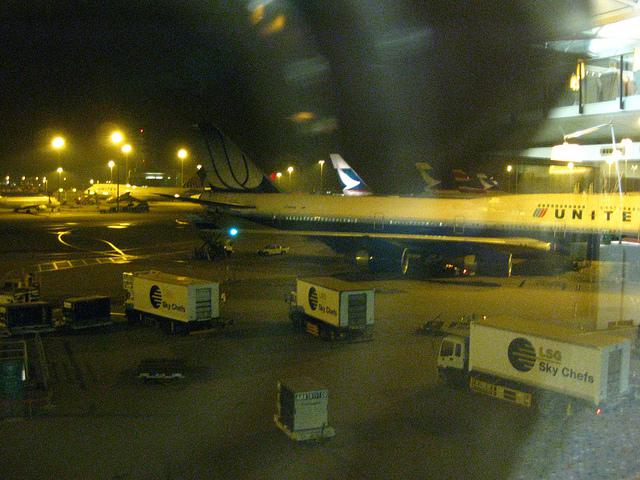Airplane: (149, 121, 640, 248), (330, 154, 547, 202), (80, 184, 211, 205), (0, 196, 62, 216), (478, 174, 506, 193)
